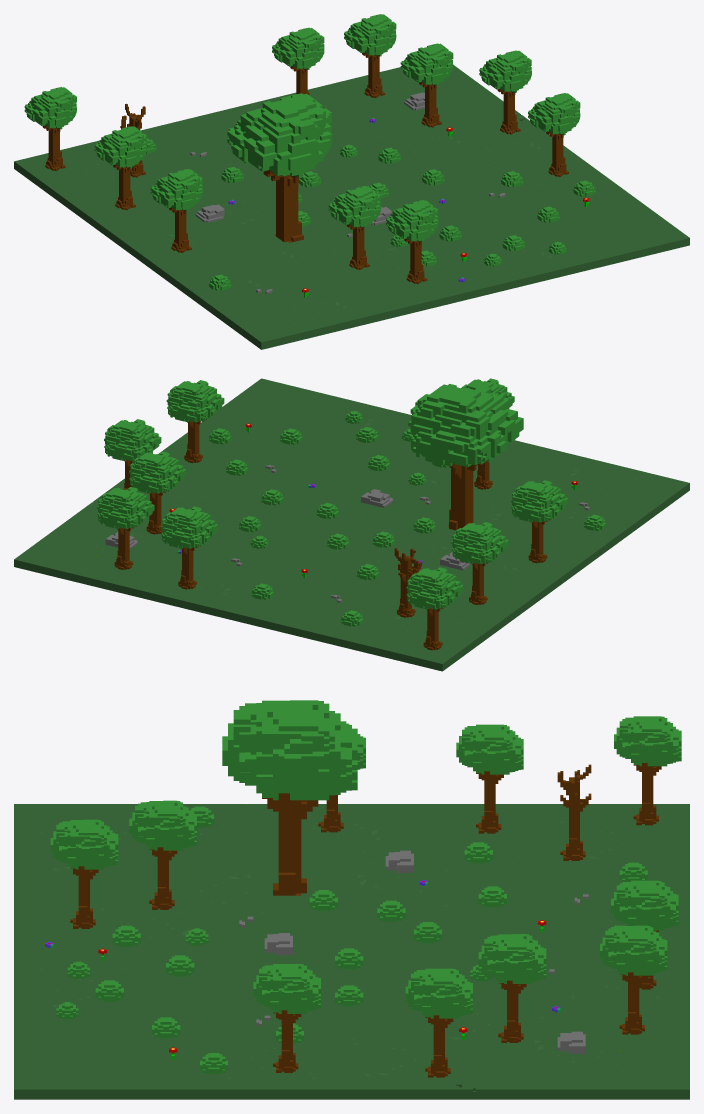
The model's file is bosque2.glb.
3 views of the same model, one above another, from view 1: azimuth 30°, elevation 25°; view 2: azimuth 150°, elevation 25°; view 3: azimuth 270°, elevation 25° (orthographic). The views are drawn at different scales.
Visible parts, largest first — view 1: Untitled; view 2: Untitled; view 3: Untitled.
Boxes of the visible parts, x1,y1,x2,y2 form: Untitled: (14,14,689,349); Untitled: (14,378,689,671); Untitled: (14,700,689,1099).
Size of the model in its own units: 24 by 7.4 by 24.
1 material, 1 textured.
